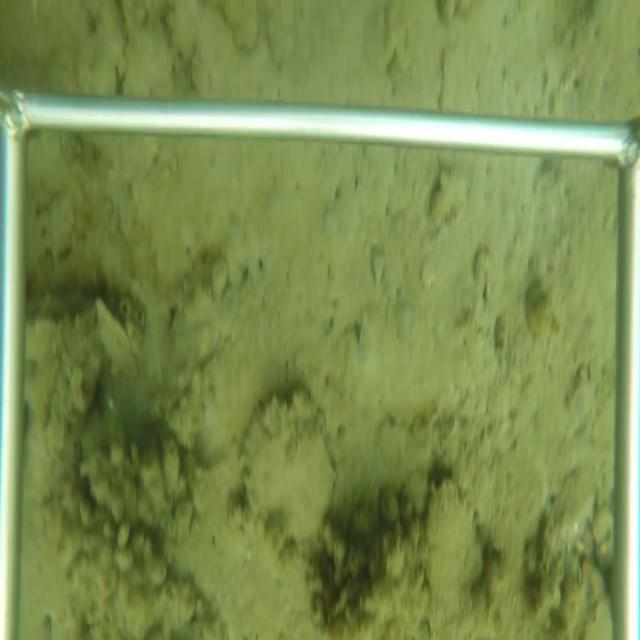Oyster-Indeterminate: (239, 388, 339, 543), (420, 472, 484, 639)
